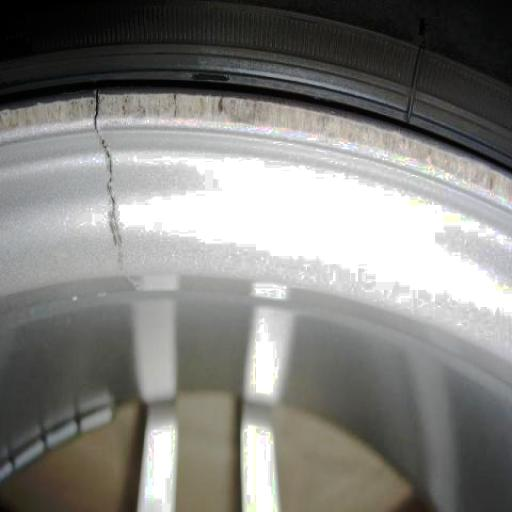crack: (81, 84, 142, 280)
